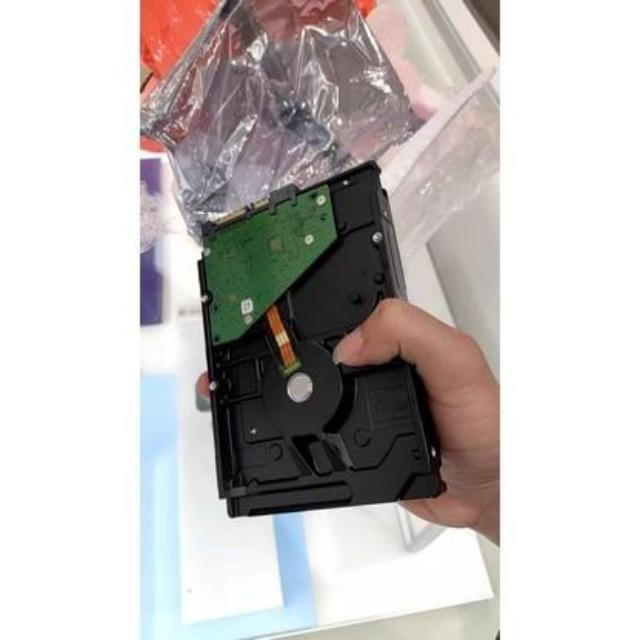DISK: (185, 160, 452, 523)
